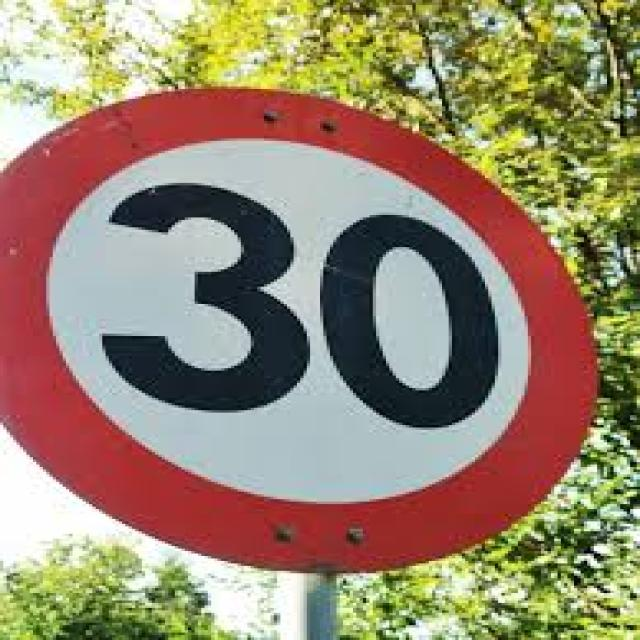Speed limit 30: (1, 83, 605, 577)
